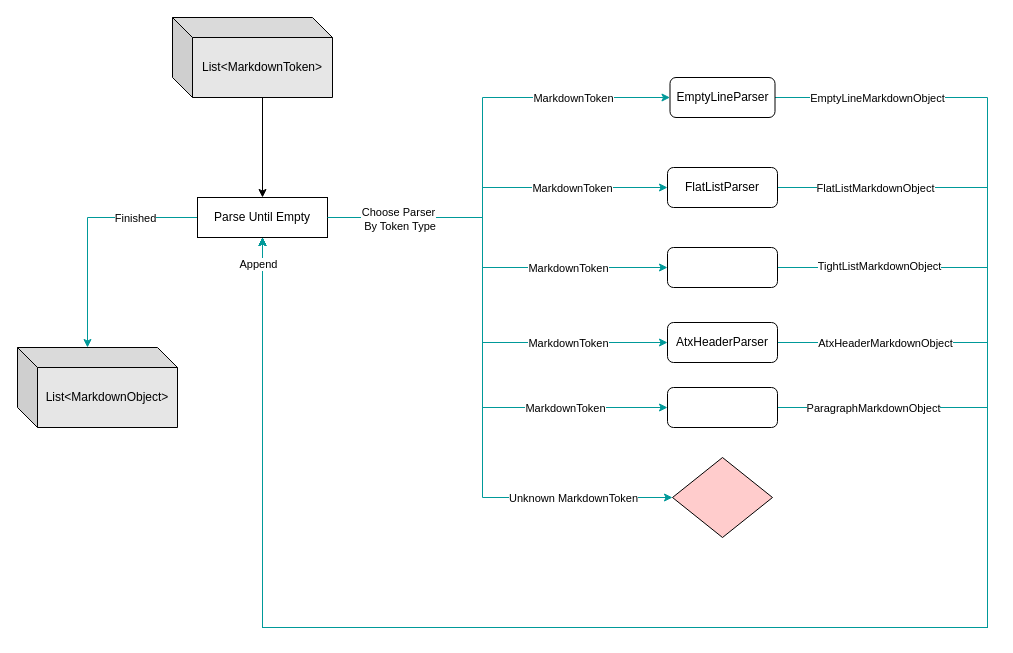
Some shapes in this 1013 by 653 pixel diagram are drawn without their labels. The shapes that lost their labels are listed below. From the top down, each one's box as (x1, y1, x2, y2) in pixels, then its label:
(666, 246, 778, 288): TightListItemParser
(666, 386, 778, 428): ParagraphParser
(672, 456, 772, 538): exception
